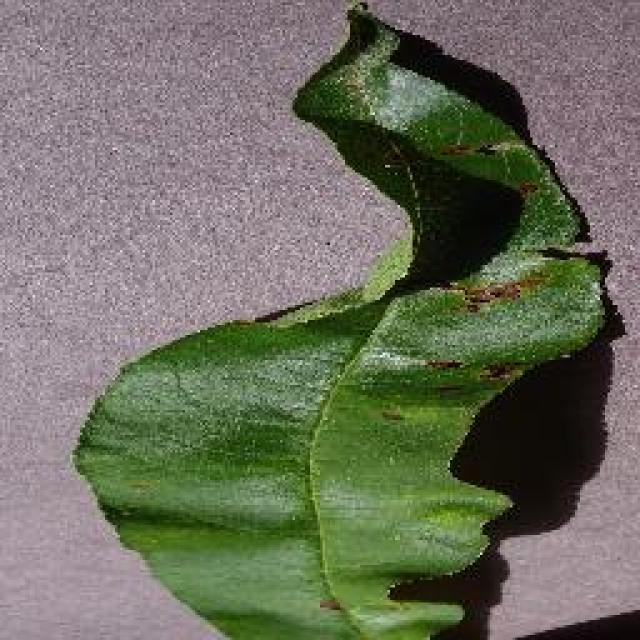Pea_Bacterial_spot: (422, 132, 612, 394)
